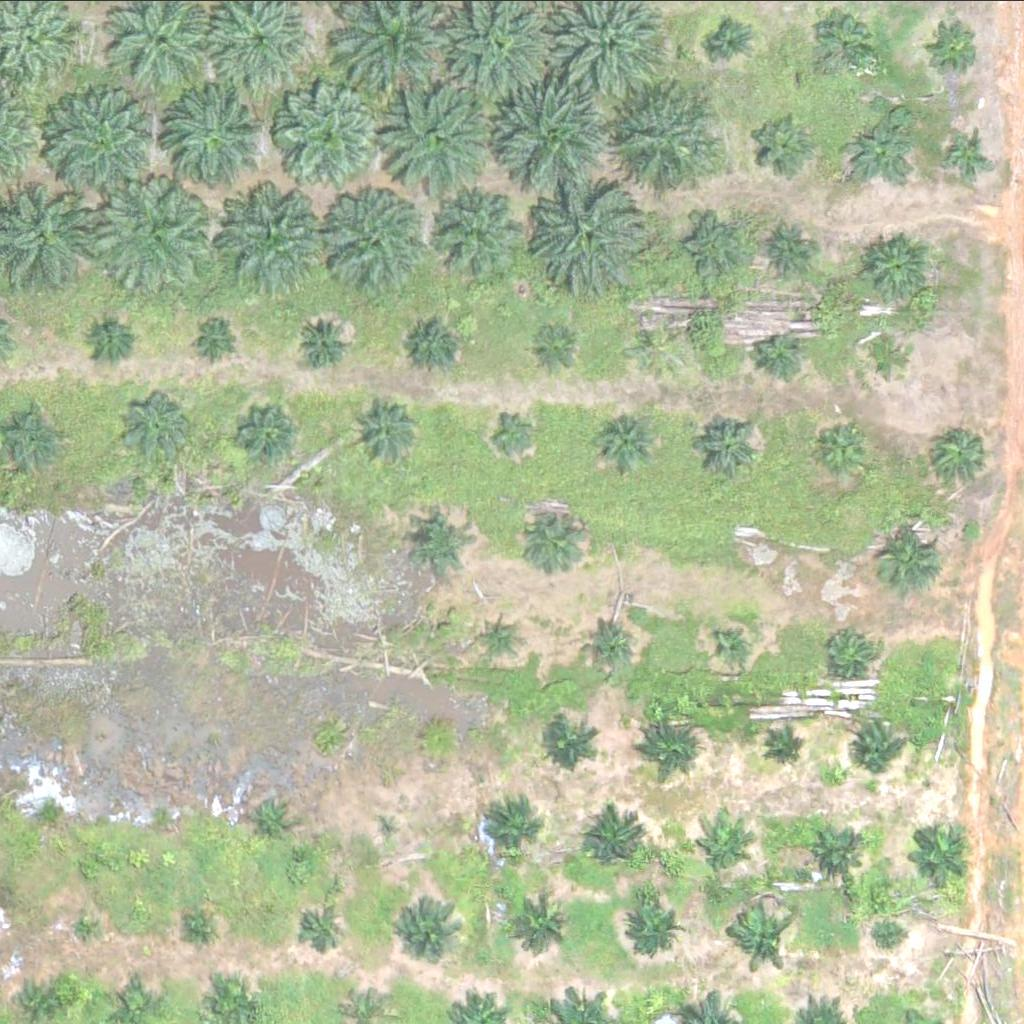Kelapa_Sawit: (527, 172, 653, 297), (386, 77, 500, 190), (271, 79, 385, 192), (103, 175, 217, 288), (492, 76, 605, 189), (607, 85, 720, 198), (48, 85, 161, 198), (222, 183, 336, 295), (320, 189, 421, 289), (164, 81, 264, 181), (437, 191, 525, 279), (627, 889, 703, 964), (399, 893, 475, 968), (501, 885, 577, 960), (869, 518, 945, 593), (729, 897, 805, 972), (116, 386, 191, 461), (859, 229, 934, 304), (841, 113, 916, 188), (520, 500, 583, 563), (404, 511, 467, 574), (476, 796, 539, 859), (906, 819, 969, 882), (801, 820, 864, 883), (243, 402, 306, 465), (592, 413, 655, 476), (697, 413, 760, 476), (929, 420, 992, 483), (811, 17, 874, 80), (811, 420, 874, 483), (293, 312, 356, 375), (638, 711, 701, 773), (538, 712, 601, 774), (584, 807, 646, 870), (354, 402, 417, 464), (684, 214, 747, 276), (753, 110, 816, 172), (405, 316, 468, 378), (933, 24, 984, 74), (762, 220, 813, 270), (942, 131, 993, 181), (522, 322, 573, 372), (619, 323, 670, 373), (748, 333, 799, 383), (484, 407, 535, 457), (84, 317, 135, 367), (298, 905, 349, 955), (693, 824, 743, 874), (856, 723, 906, 773), (823, 623, 873, 673), (864, 329, 914, 379), (582, 621, 632, 671), (192, 313, 242, 363), (246, 791, 296, 841), (480, 616, 518, 654), (718, 626, 756, 664), (872, 917, 910, 955), (420, 719, 458, 757), (68, 905, 106, 943), (20, 981, 58, 1019), (714, 22, 752, 59), (769, 732, 807, 769), (184, 916, 210, 941), (374, 812, 399, 837)
